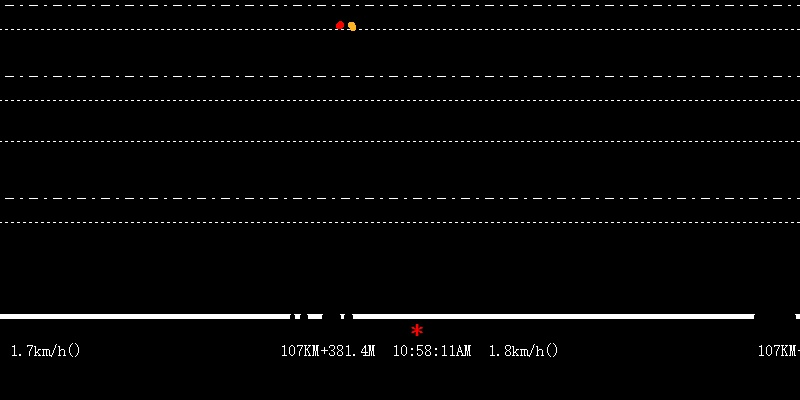face_1: (345, 17, 355, 35), (335, 17, 344, 35)
star: (408, 320, 424, 335)
